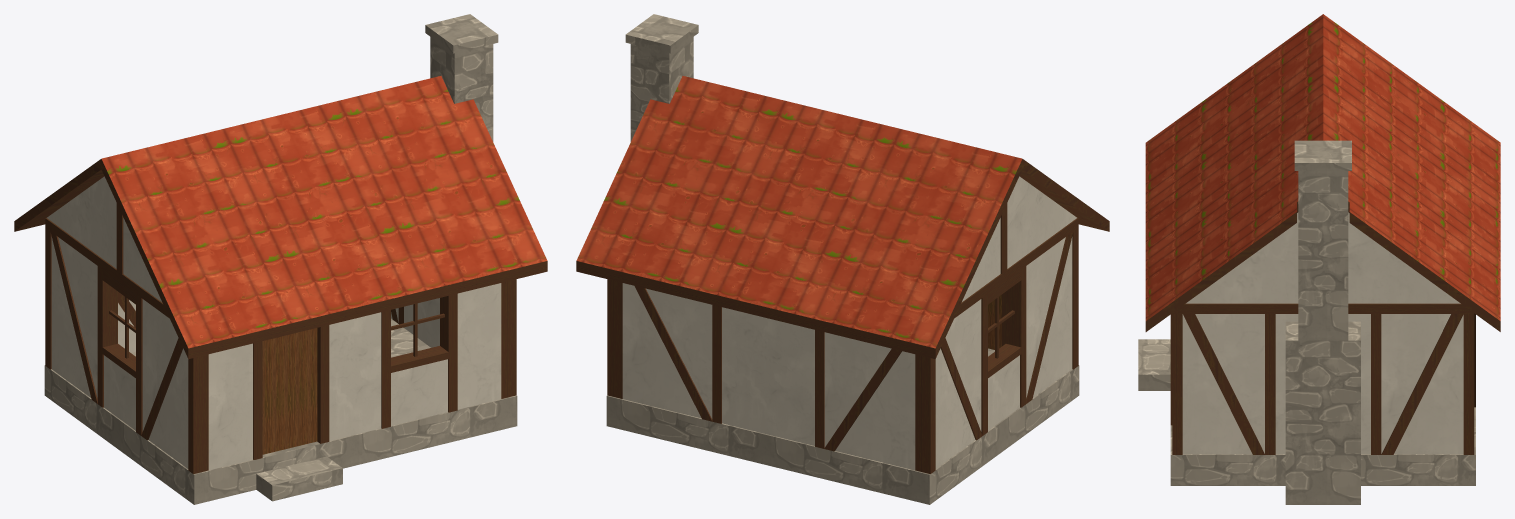
File: cottage.gltf
The picture shows the model from 3 angles, left to right: view 1: azimuth 30°, elevation 25°; view 2: azimuth 150°, elevation 25°; view 3: azimuth 270°, elevation 25°; orthographic projection. The views are drawn at different scales.
Visible parts, largest first — view 1: Whole_Roof, Whole_FrontWall, Whole_Plinth, Piece_Roof_000, Piece_Roof_001, Piece_Roof_005, Piece_Roof_002, Piece_Roof_003, Piece_Roof_004, Piece_Roof_020, Piece_Roof_006, Piece_LeftWall_021 (+52 smaller); view 2: Whole_Roof, Whole_Plinth, Whole_BackWall, Piece_Roof_012, Piece_Roof_014, Piece_Roof_011, Piece_Roof_010, Piece_Roof_015, Piece_Roof_013, Piece_Roof_016, Piece_Roof_019, Piece_BackWall_005 (+42 smaller); view 3: Whole_Roof, Piece_RightWall_007, Piece_RightWall_016, Piece_RightWall_017, Piece_RightWall_008, Piece_RightWall_019, Piece_RightWall_020, Piece_Chimney_001, Whole_Plinth, Piece_Roof_001, Piece_Roof_000, Piece_Chimney_002 (+47 smaller).
Boxes of the visible parts, <box> form: Whole_Roof: <box>14,76,528,358</box>; Whole_FrontWall: <box>208,283,501,469</box>; Whole_Plinth: <box>44,319,517,504</box>; Piece_Roof_000: <box>141,234,250,359</box>; Piece_Roof_001: <box>101,145,248,255</box>; Piece_Roof_005: <box>261,106,359,213</box>; Piece_Roof_002: <box>244,229,371,344</box>; Piece_Roof_003: <box>160,115,279,229</box>; Piece_Roof_004: <box>250,212,384,313</box>; Piece_Roof_020: <box>454,99,547,276</box>; Piece_Roof_006: <box>355,197,455,311</box>; Piece_LeftWall_021: <box>47,176,116,268</box>; Whole_Roof: <box>596,76,1109,358</box>; Whole_Plinth: <box>606,348,1078,504</box>; Whole_BackWall: <box>635,286,900,450</box>; Piece_Roof_012: <box>846,133,971,258</box>; Piece_Roof_014: <box>778,110,918,216</box>; Piece_Roof_011: <box>856,254,969,359</box>; Piece_Roof_010: <box>910,146,1022,284</box>; Piece_Roof_015: <box>748,178,849,308</box>; Piece_Roof_013: <box>749,239,878,339</box>; Piece_Roof_016: <box>700,90,821,186</box>; Piece_Roof_019: <box>595,185,735,290</box>; Piece_BackWall_005: <box>835,351,915,470</box>; Whole_Roof: <box>1145,14,1500,310</box>; Piece_RightWall_007: <box>1182,314,1252,454</box>; Piece_RightWall_016: <box>1394,315,1463,454</box>; Piece_RightWall_017: <box>1381,314,1450,453</box>; Piece_RightWall_008: <box>1195,314,1264,453</box>; Piece_RightWall_019: <box>1186,212,1298,303</box>; Piece_RightWall_020: <box>1348,212,1460,303</box>; Piece_Chimney_001: <box>1285,401,1360,497</box>; Whole_Plinth: <box>1138,339,1475,485</box>; Piece_Roof_001: <box>1230,14,1323,130</box>; Piece_Roof_000: <box>1145,77,1235,173</box>; Piece_Chimney_002: <box>1285,355,1358,447</box>.
Bounding box in the file's own units: 5.97 × 5.02 × 4.8.
8 materials, 8 textured.
